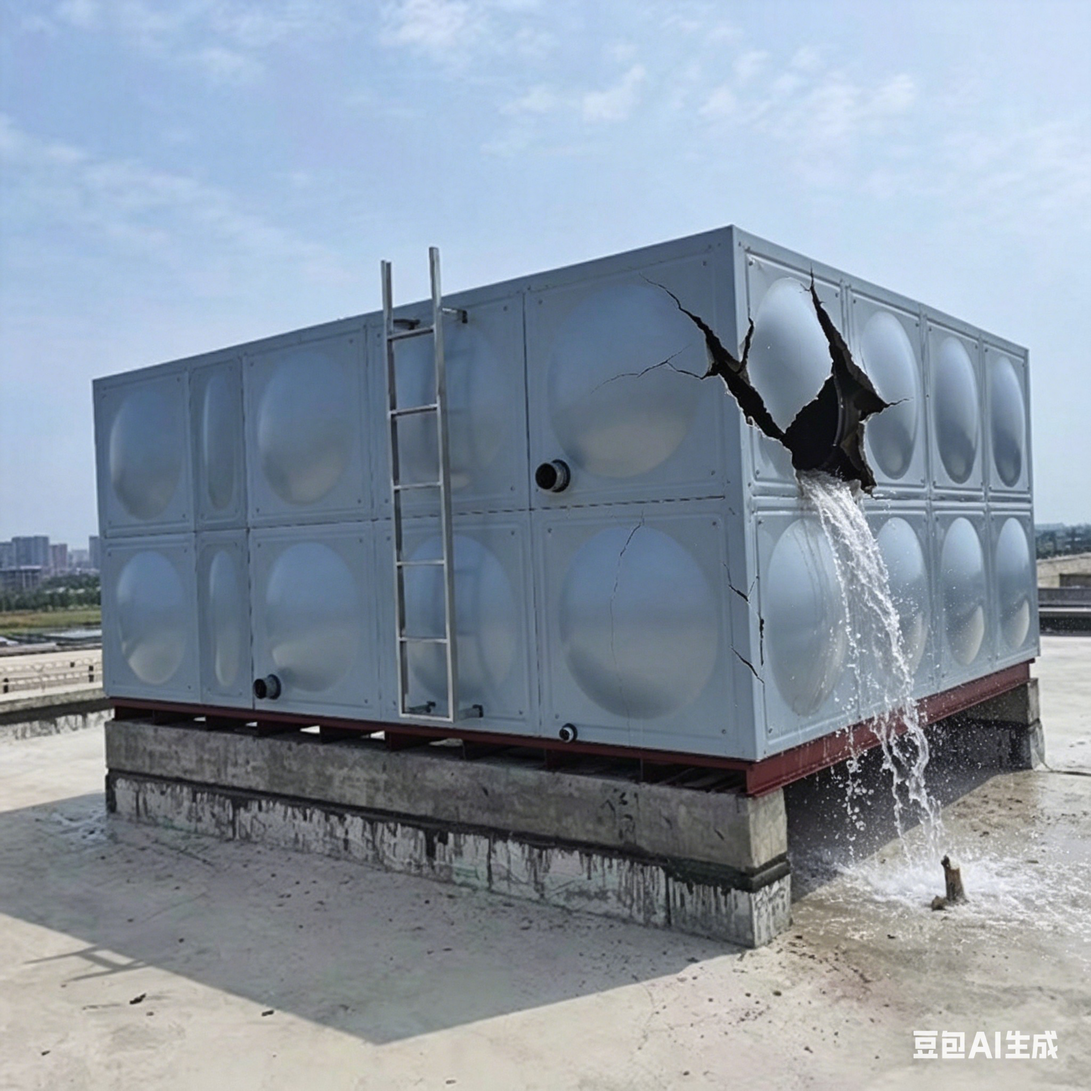Leakage: (798, 465, 1073, 963)
